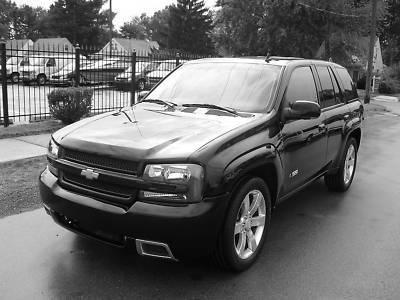car: (37, 54, 367, 262)
